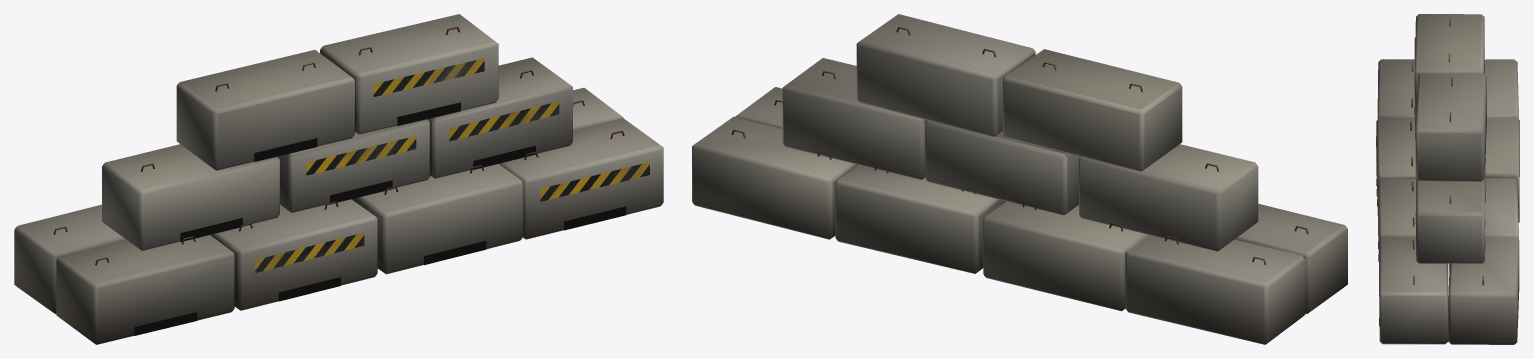
File: barrier_stack.glb
3 views of the same model, side by side, from view 1: azimuth 30°, elevation 25°; view 2: azimuth 150°, elevation 25°; view 3: azimuth 270°, elevation 25° (orthographic). The views are drawn at different scales.
Visible parts, largest first — view 1: BarrierStack; view 2: BarrierStack; view 3: BarrierStack.
Boxes of the visible parts, x1=… form: BarrierStack: x1=14, y1=14, x2=663, y2=344; BarrierStack: x1=692, y1=14, x2=1347, y2=344; BarrierStack: x1=1376, y1=14, x2=1519, y2=344.
Bounding box in the file's own units: 7.31 × 2.32 × 1.88.
